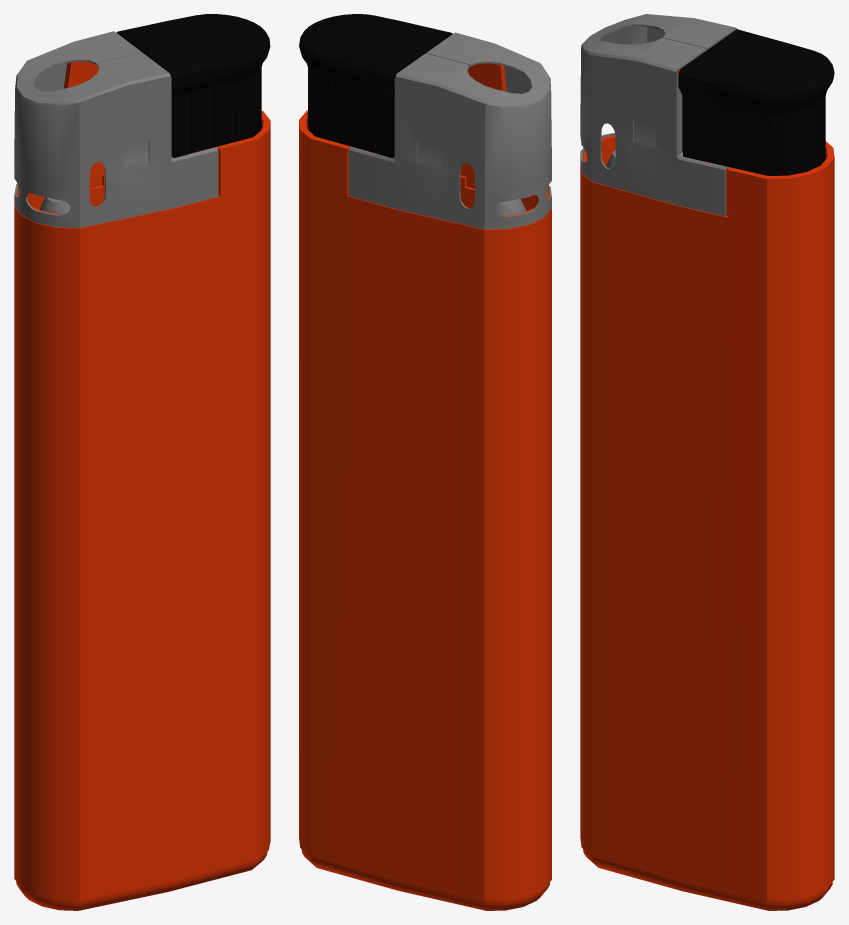
The model's file is LighterCasual.glb.
The picture shows the model from 3 angles, left to right: view 1: azimuth 30°, elevation 25°; view 2: azimuth 150°, elevation 25°; view 3: azimuth 330°, elevation 25°; orthographic projection.
Visible parts, largest first — view 1: PlasticRed_Mainpart, MetalSilver_carter, PlasticBlack_Gaz Switch; view 2: PlasticRed_Mainpart, MetalSilver_carter, PlasticBlack_Gaz Switch; view 3: PlasticRed_Mainpart, MetalSilver_carter, PlasticBlack_Gaz Switch.
Boxes of the visible parts, <box> form: PlasticRed_Mainpart: <box>14,61,270,910</box>; MetalSilver_carter: <box>14,31,218,227</box>; PlasticBlack_Gaz Switch: <box>116,14,270,157</box>; PlasticRed_Mainpart: <box>299,63,551,910</box>; MetalSilver_carter: <box>349,32,551,229</box>; PlasticBlack_Gaz Switch: <box>299,14,452,158</box>; PlasticRed_Mainpart: <box>580,69,834,910</box>; MetalSilver_carter: <box>580,14,737,216</box>; PlasticBlack_Gaz Switch: <box>678,29,834,175</box>.
Bounding box in the file's own units: 23.73 × 77.61 × 10.17.
